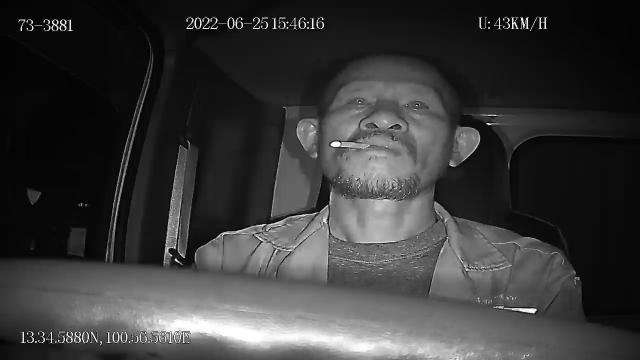SafeDriving: (340, 87, 378, 114), (398, 92, 437, 118)
Smoking: (331, 140, 371, 150)
